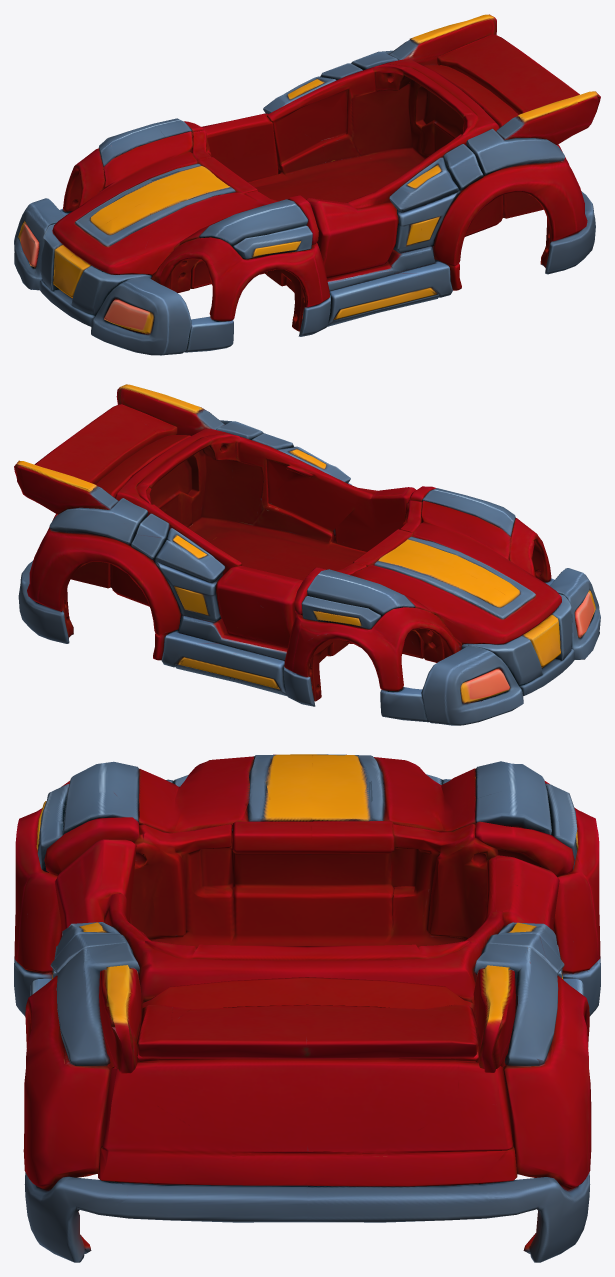
The model's file is koloss.glb.
3 views of the same model, one above another, from view 1: azimuth 30°, elevation 25°; view 2: azimuth 150°, elevation 25°; view 3: azimuth 270°, elevation 25° (orthographic). The views are drawn at different scales.
Parts seen in each view (by area): view 1: geometry_0; view 2: geometry_0; view 3: geometry_0.
Part boxes in pixels (<box>): geometry_0: <box>14,14,600,355</box>; geometry_0: <box>14,384,600,725</box>; geometry_0: <box>14,754,600,1262</box>.
Size of the model in its own units: 0.9521 by 0.2812 by 0.5562.
1 material, 1 textured.
